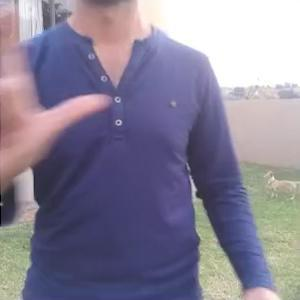land_hand: (0, 0, 114, 177)
